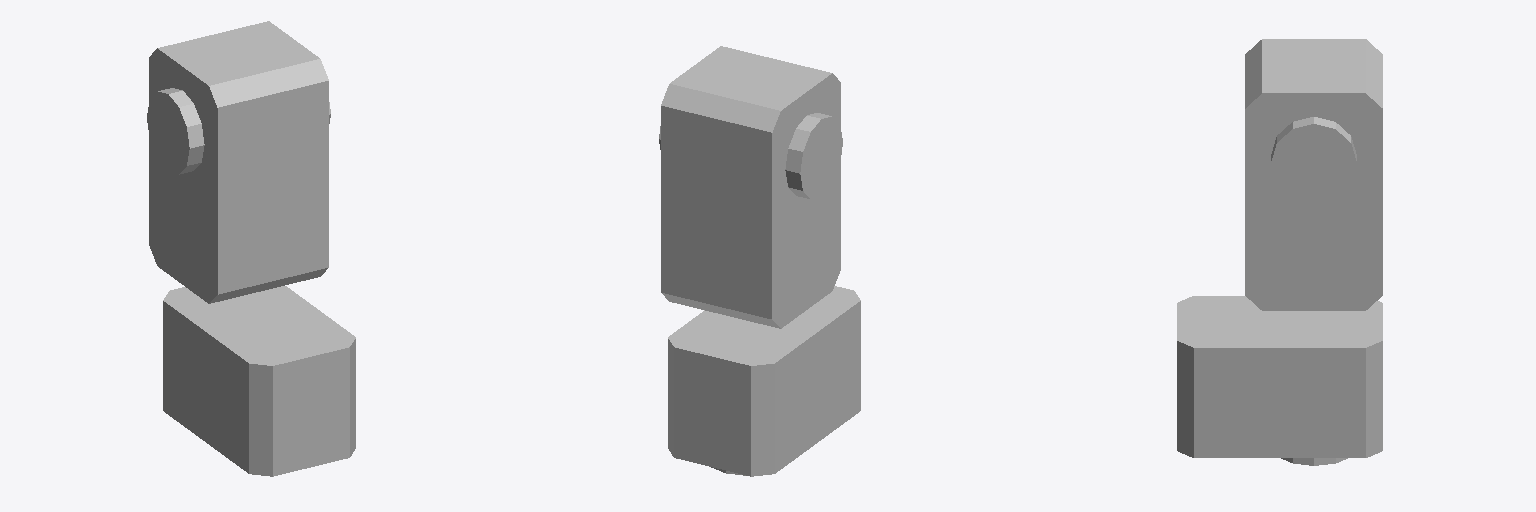
Rendered from leftArm2.obj.
The picture shows the model from 3 angles: view 1: azimuth 30°, elevation 25°; view 2: azimuth 150°, elevation 25°; view 3: azimuth 270°, elevation 25°; orthographic projection.
Parts seen in each view (by area): view 1: unnamed_object1; view 2: unnamed_object1; view 3: unnamed_object1.
Boxes of the visible parts, <box> form: unnamed_object1: <box>147,21,355,476</box>; unnamed_object1: <box>659,46,860,476</box>; unnamed_object1: <box>1177,39,1382,465</box>.
Bounding box in the file's own units: 4.75 × 12.2 × 6.